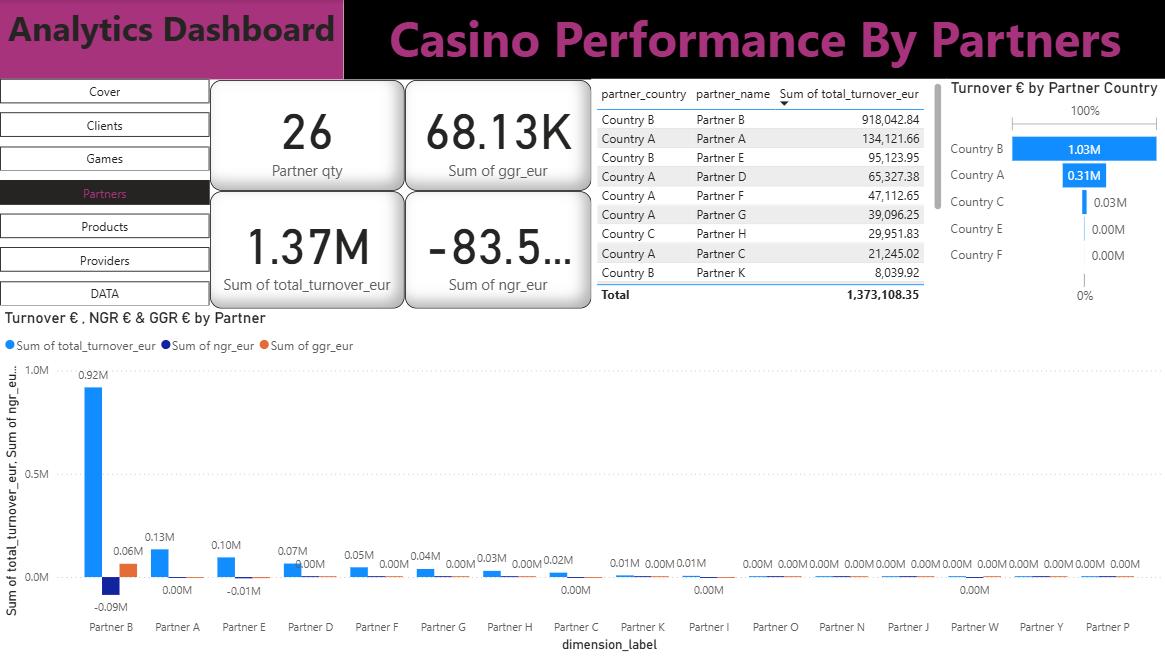

The dashboard page shown, as its layout file describes it:
{"tool":"powerbi","page":{"name":"Partners","canvas":[1280,720],"ordinal":3},"visuals":[{"type":"card","fields":{"Values":["casino metrics_by_partner.total_turnover_eur"]},"box":[230.8,209.3,213.6,129],"z":0},{"type":"card","fields":{"Values":["casino metrics_by_partner.ggr_eur"]},"box":[444.4,87.5,205,121.9],"z":1000},{"type":"card","fields":{"Values":["casino metrics_by_partner.ngr_eur"]},"box":[444.4,209.3,205,129],"z":2000},{"type":"card","fields":{"Values":["Table.Partner qty"]},"box":[230.8,87.5,213.6,121.9],"z":3000},{"type":"textbox","box":[377.1,0,903.2,87.5],"z":4000},{"type":"textbox","box":[0,0,377.1,87.5],"z":5000},{"type":"clusteredColumnChart","title":"Turnover € , NGR € & GGR € by Partner","fields":{"Category":["casino metrics_by_partner.dimension_label"],"Y":["casino metrics_by_partner.total_turnover_eur","casino metrics_by_partner.ngr_eur","casino metrics_by_partner.ggr_eur"]},"box":[0,338.7,1279.8,381.6],"z":6000},{"type":"tableEx","fields":{"Values":["casino partners.partner_country","casino partners.partner_name","casino metrics_by_partner.total_turnover_eur"]},"box":[649.1,87.1,390.2,251.5],"z":7000},{"type":"funnel","title":"Turnover €  by Partner Country","fields":{"Category":["casino partners.partner_country"],"Y":["casino metrics_by_partner.total_turnover_eur"]},"box":[1039,87,241,252],"z":8000},{"type":"pageNavigator","box":[0,87.1,230.7,251.5],"z":9000}]}

Visuals, with their boxes in screenshot pixels (x1, y1, x2, y2), scaled from the page's 1280x720 canvas onto the 1165x656 screenshot:
card - casino metrics_by_partner.total_turnover_eur: detection(210, 191, 404, 308)
card - casino metrics_by_partner.ggr_eur: detection(404, 80, 591, 191)
card - casino metrics_by_partner.ngr_eur: detection(404, 191, 591, 308)
card - Table.Partner qty: detection(210, 80, 404, 191)
textbox: detection(343, 0, 1164, 80)
textbox: detection(0, 0, 343, 80)
"Turnover € , NGR € & GGR € by Partner" clusteredColumnChart: detection(0, 309, 1164, 655)
tableEx - casino partners.partner_country x casino partners.partner_name: detection(591, 79, 946, 309)
"Turnover €  by Partner Country" funnel: detection(946, 79, 1164, 309)
pageNavigator: detection(0, 79, 210, 309)
